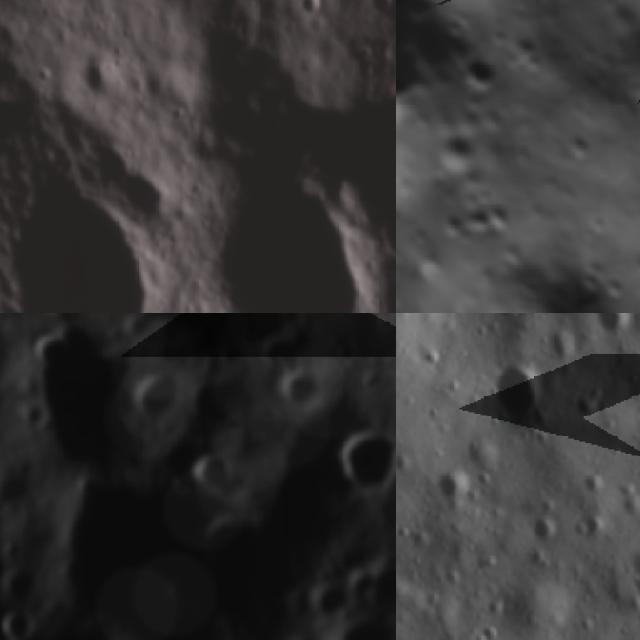crater: (174, 178, 395, 313), (0, 169, 162, 313), (321, 76, 396, 287), (396, 0, 451, 145), (479, 346, 561, 437), (487, 562, 578, 640), (605, 80, 640, 229), (338, 423, 396, 497), (529, 314, 591, 378), (266, 367, 342, 416), (128, 368, 188, 422), (30, 321, 89, 372), (458, 428, 512, 482), (71, 56, 120, 112), (190, 447, 247, 494), (310, 584, 364, 628), (432, 463, 476, 514), (568, 505, 612, 551), (520, 508, 564, 554), (590, 313, 640, 352), (568, 387, 612, 430), (0, 602, 49, 640), (2, 563, 43, 606), (616, 548, 640, 616), (0, 602, 39, 640), (608, 484, 640, 530), (338, 617, 396, 640), (290, 0, 331, 24), (364, 0, 396, 23), (0, 556, 8, 589)
